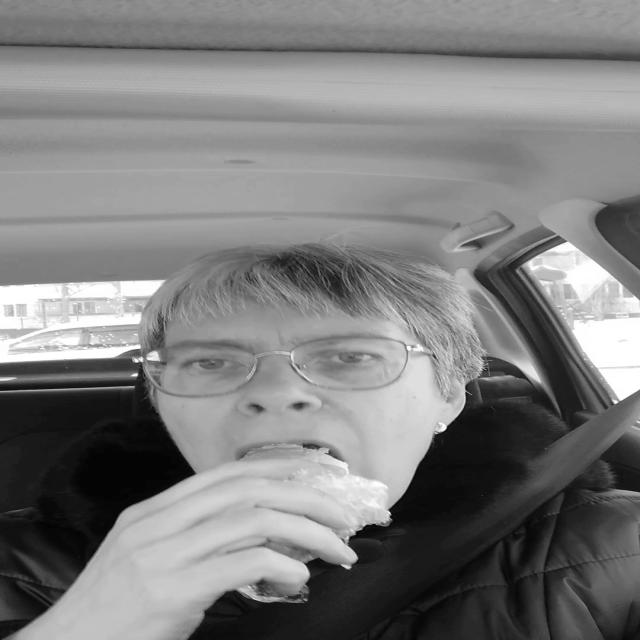Eating: (230, 434, 391, 606)
Seatbelt: (236, 384, 640, 640)
